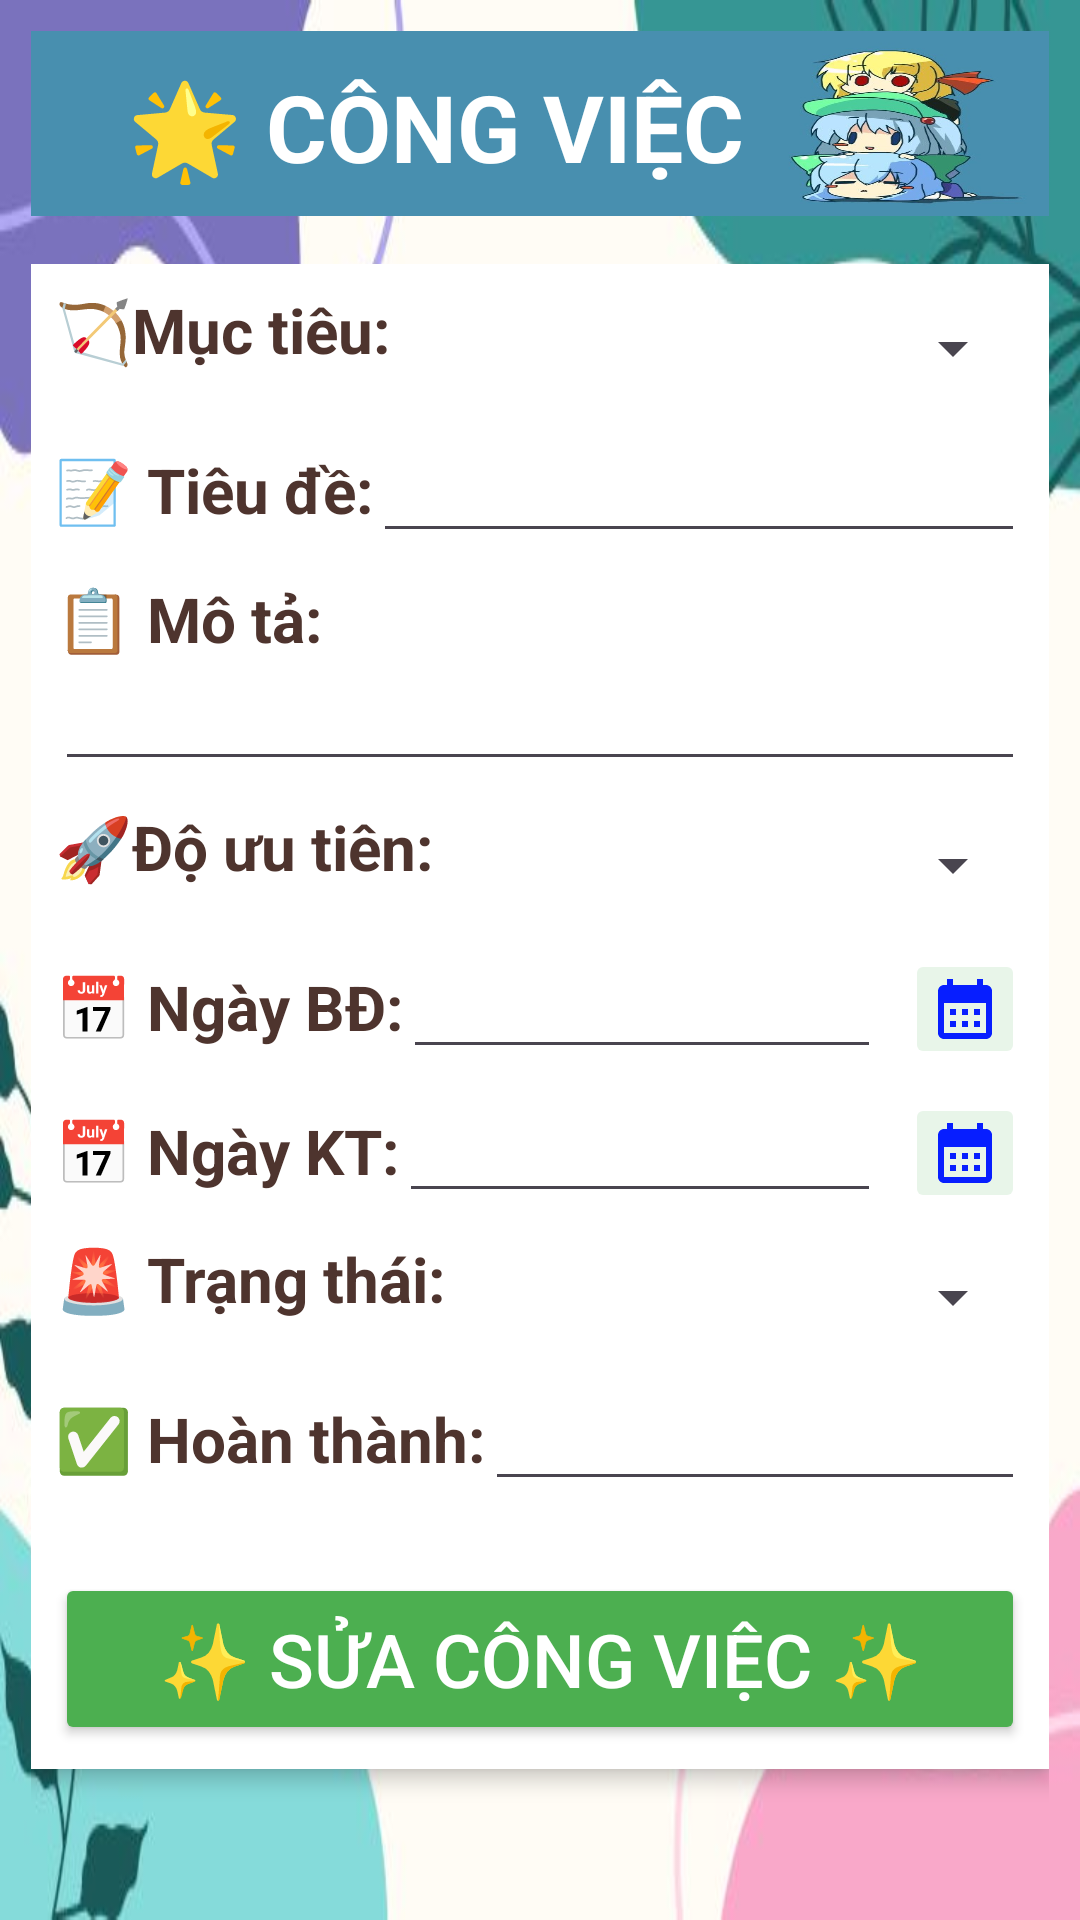

Screen size 1080x1920. Icon name, then its center in pixels as (x=x, y=y):
calendar month: (x=965, y=1009), (x=965, y=1153)
